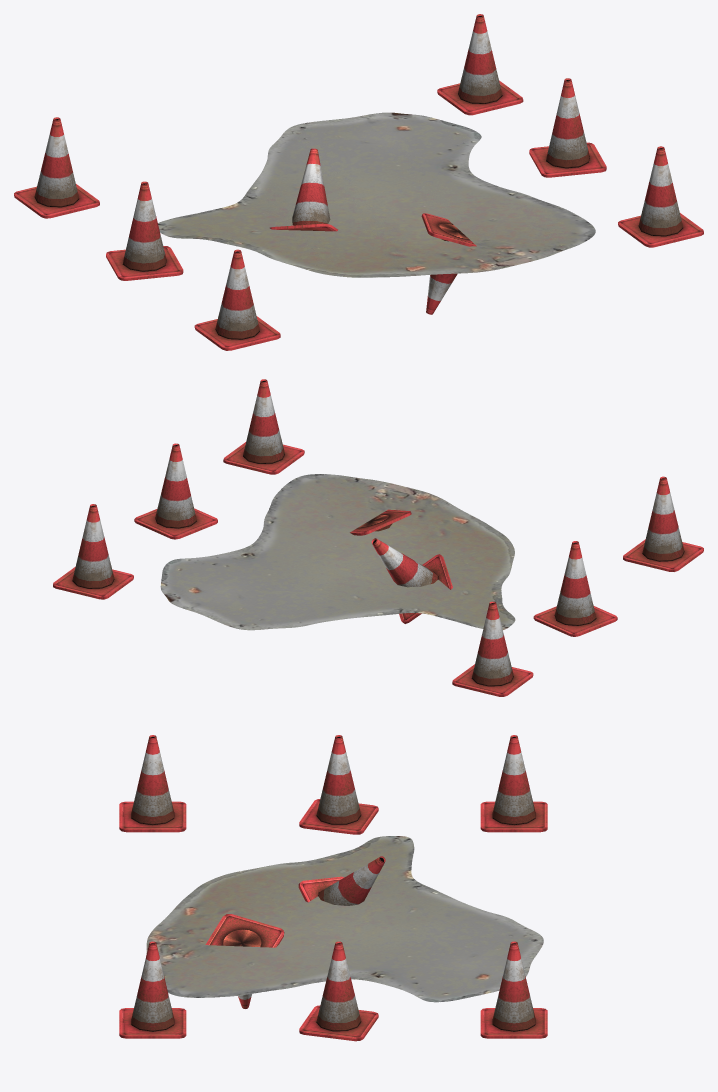
File: obs_cone.fbx
The picture shows the model from 3 angles, top to bottom: view 1: azimuth 30°, elevation 25°; view 2: azimuth 150°, elevation 25°; view 3: azimuth 270°, elevation 25°; orthographic projection. The views are drawn at different scales.
Visible parts, largest first — view 1: obs_cone; view 2: obs_cone; view 3: obs_cone.
Boxes of the visible parts, x1,y1,x2,y2 form: obs_cone: [14, 14, 703, 350]; obs_cone: [53, 379, 703, 696]; obs_cone: [119, 735, 547, 1041].
Size of the model in its own units: 321 by 79.68 by 321.
